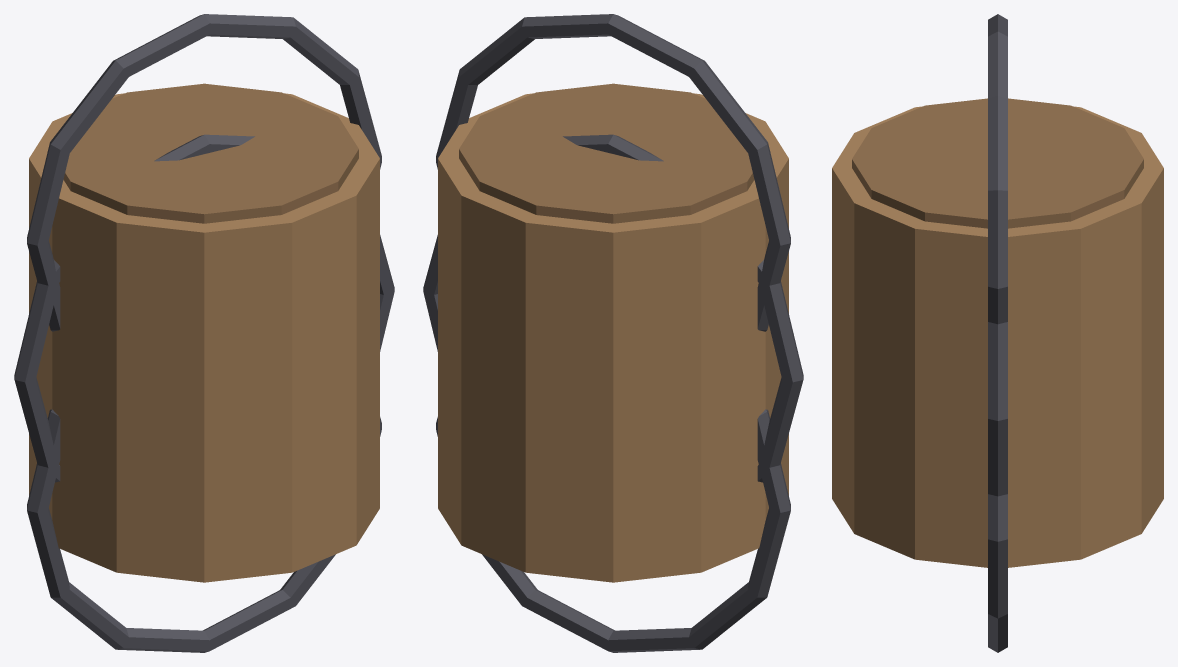
Rendered from tonneau.glb.
3 views of the same model, side by side, from view 1: azimuth 30°, elevation 25°; view 2: azimuth 150°, elevation 25°; view 3: azimuth 270°, elevation 25° (orthographic). The views are drawn at different scales.
Visible parts, largest first — view 1: Tonneau; view 2: Tonneau; view 3: Tonneau.
Boxes of the visible parts, x1,y1,x2,y2 form: Tonneau: (14, 14, 394, 652); Tonneau: (423, 14, 803, 652); Tonneau: (832, 14, 1163, 652).
Size of the model in its own units: 1.25 by 2.01 by 1.
